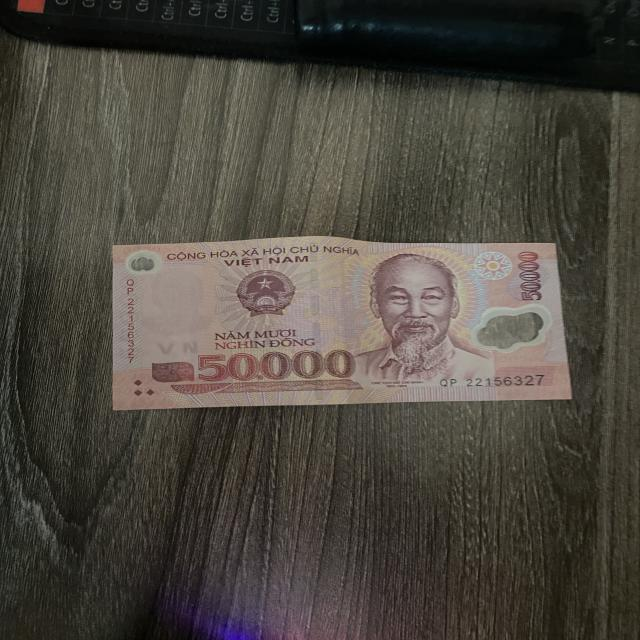50 000 VND: (108, 236, 573, 411)
